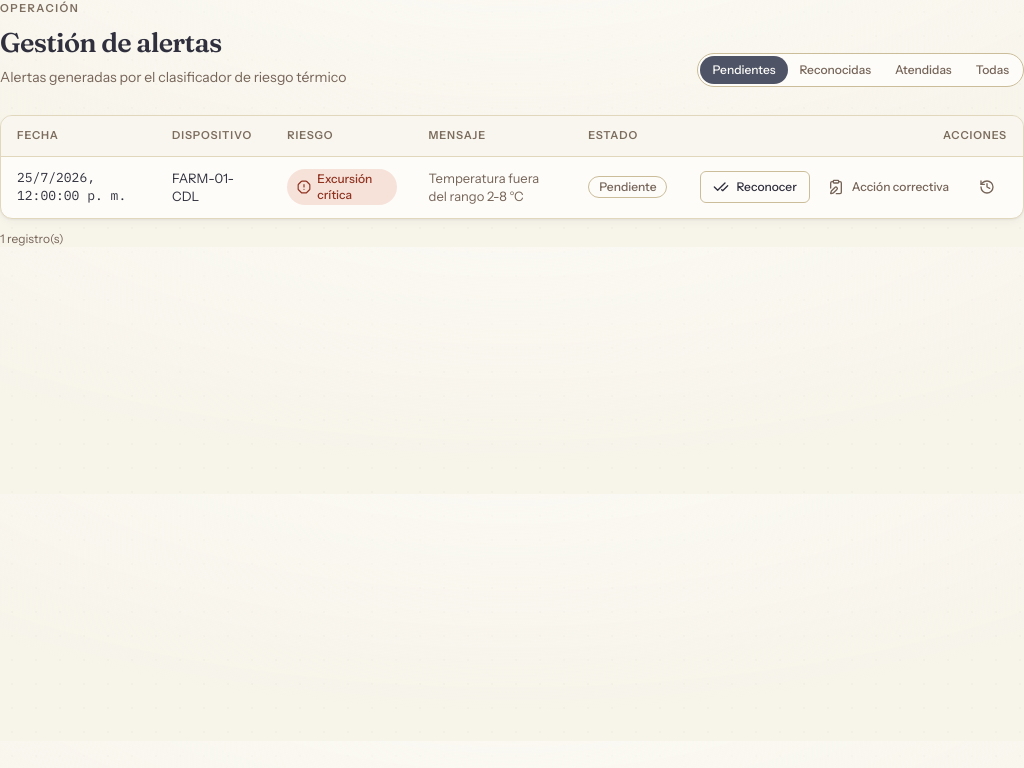
Scenario: Alertas — ciclo completo de acción correctiva (RF-09, RF-10) › no deja guardar una acción vacía
Click the button "Acción correctiva": [888, 187] box 816,171 -> 961,203
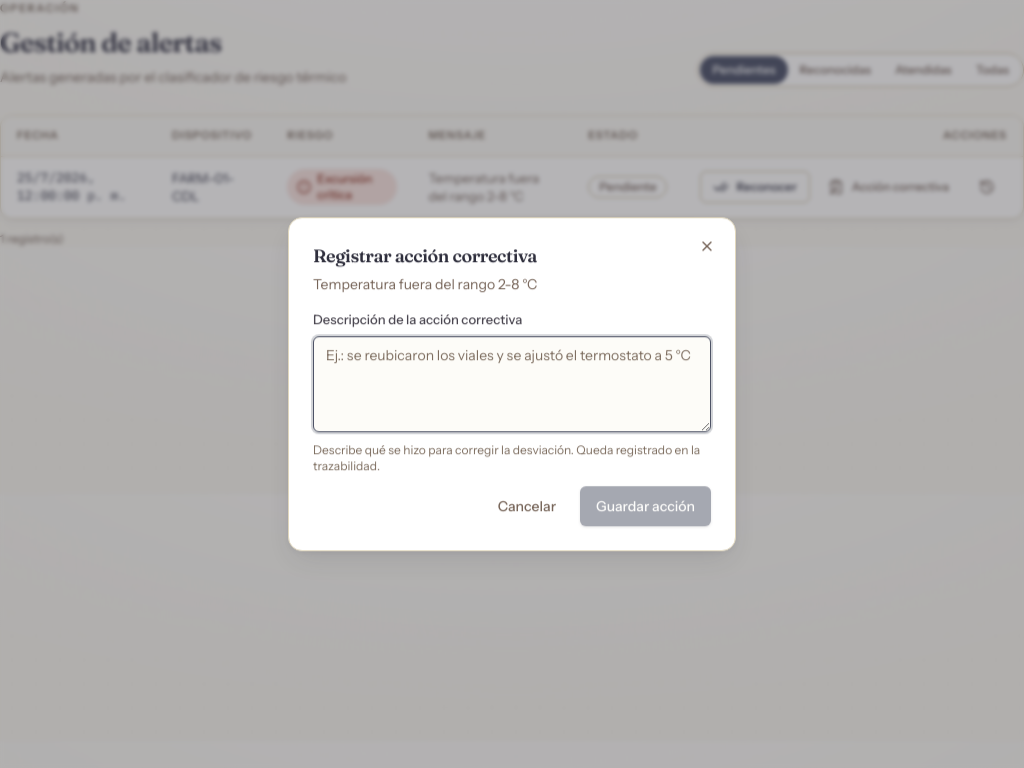
Expected: the button "Guardar acción" is disabled, 580,486 -> 711,526
